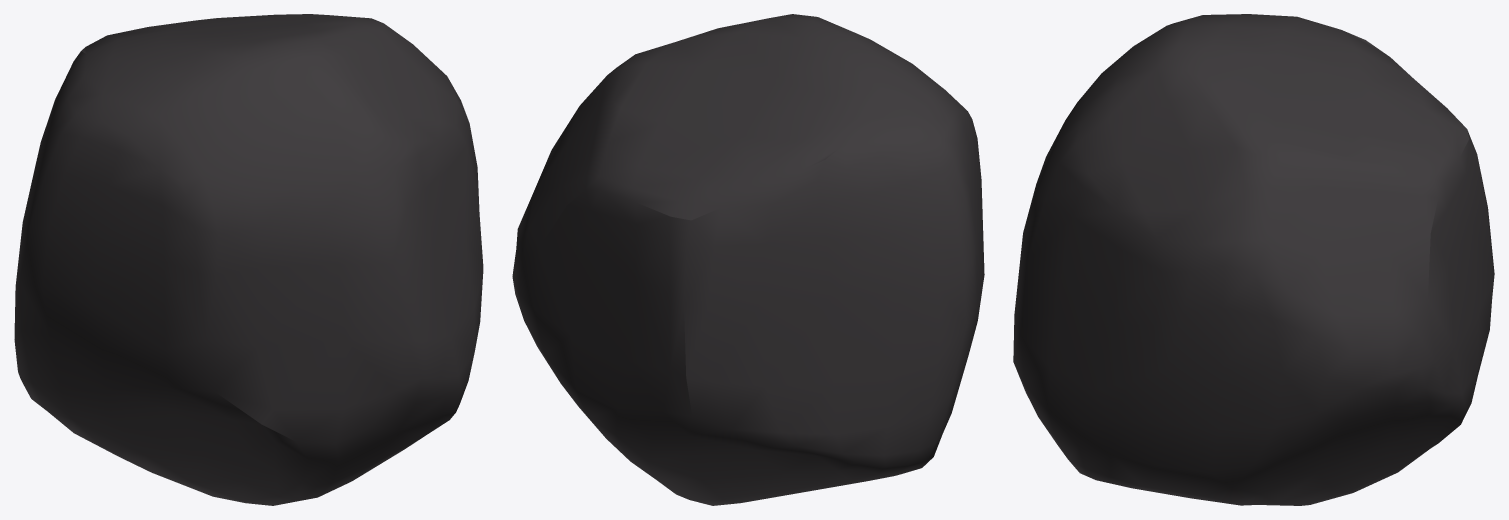
Rendered from Rock-KvXSMwoftt.glb.
3 renders of one model, left to right at view 1: azimuth 30°, elevation 25°; view 2: azimuth 150°, elevation 25°; view 3: azimuth 270°, elevation 25°, orthographic. The views are drawn at different scales.
Parts seen in each view (by area): view 1: Prop_CannonBall; view 2: Prop_CannonBall; view 3: Prop_CannonBall.
Part boxes in pixels (left/top/right/bottom): Prop_CannonBall: left=14, top=14, right=483, bottom=505; Prop_CannonBall: left=512, top=14, right=984, bottom=505; Prop_CannonBall: left=1013, top=14, right=1494, bottom=505.
Size of the model in its own units: 0.4043 by 0.4062 by 0.3903.
Materials: 1 (1 with a texture image).
